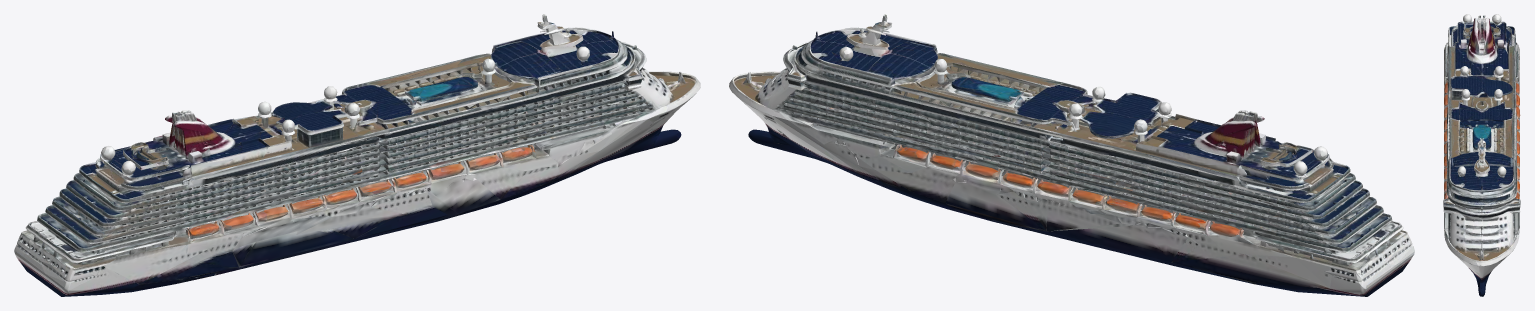
File: 07_large_cruise_ship_330m.glb
The picture shows the model from 3 angles, left to right: view 1: azimuth 30°, elevation 25°; view 2: azimuth 150°, elevation 25°; view 3: azimuth 270°, elevation 25°; orthographic projection. The views are drawn at different scales.
Parts seen in each view (by area): view 1: Mesh_0; view 2: Mesh_0; view 3: Mesh_0.
Boxes of the visible parts, x1,y1,x2,y2 form: Mesh_0: (14, 14, 700, 296); Mesh_0: (729, 14, 1414, 296); Mesh_0: (1443, 14, 1520, 296).
Size of the model in its own units: 330 by 76.58 by 47.
Materials: 1 (1 with a texture image).
